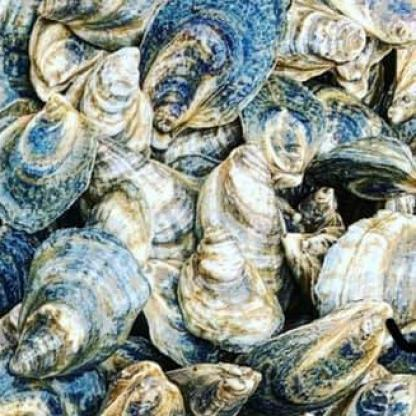Oyster- Indeterminate: (139, 0, 292, 149), (0, 93, 99, 234), (177, 223, 285, 352), (273, 0, 368, 82), (29, 17, 110, 102), (310, 83, 400, 159), (329, 35, 392, 99)
Oyster-Closed: (11, 226, 151, 378), (237, 299, 396, 416), (315, 209, 416, 355), (193, 143, 287, 292), (81, 135, 196, 244), (239, 72, 327, 188), (63, 47, 154, 155), (143, 258, 221, 368), (0, 347, 103, 416), (310, 135, 416, 201), (85, 180, 155, 270), (36, 0, 162, 49), (0, 222, 59, 316), (163, 363, 264, 416), (284, 225, 348, 306), (99, 361, 186, 416), (95, 335, 183, 388), (324, 0, 416, 44), (0, 0, 40, 100), (166, 120, 241, 161), (381, 40, 416, 123), (347, 374, 416, 416), (298, 186, 347, 234)
